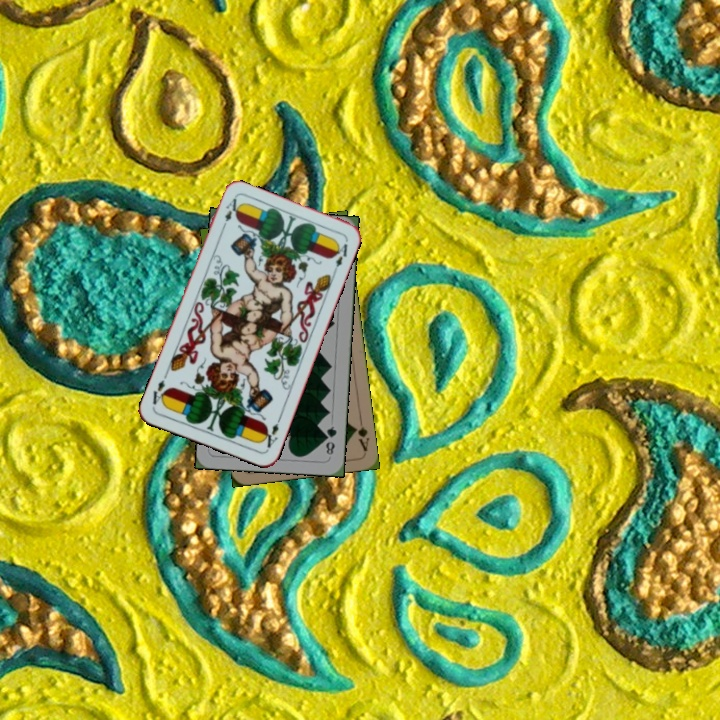EA: (258, 413, 284, 452), (218, 194, 239, 233)
G8: (321, 422, 339, 457)
GA: (350, 413, 372, 454)
